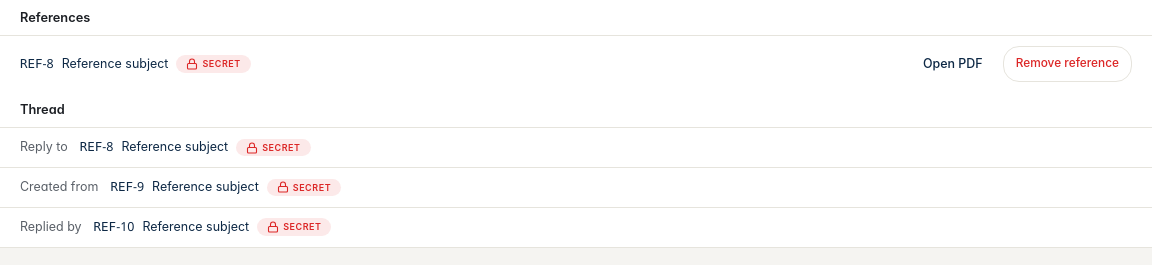
Test case: reference picker and thread › shows attached outgoing references, preserves thread order and unlinks with both invalidations
Expected: the text "Reply to" is shown, [20,138,68,157]
Expected: the text "Created from" is shown, [20,178,98,197]
Click the button "Remove reference" at (1067, 64), box [1003,46,1132,82]
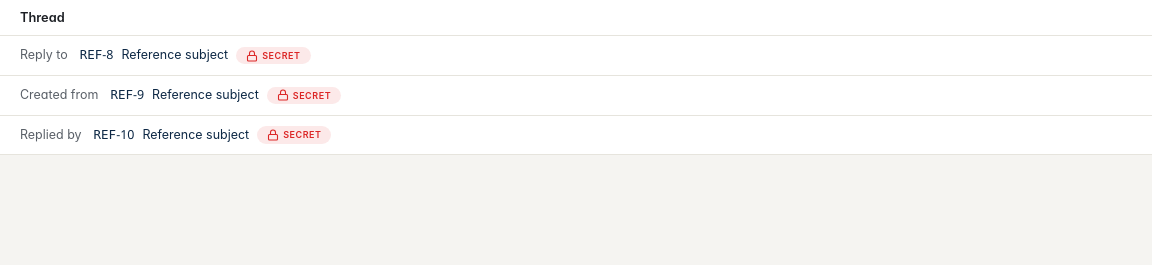
Expected: the link "REF-8 Reference subject" is shown, [80,46,228,65]
Result: the heading "References" is gone
